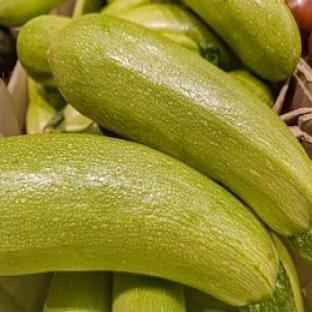Zucchini: (50, 15, 311, 235), (0, 135, 277, 305), (185, 234, 303, 311), (118, 4, 236, 69), (18, 16, 71, 87), (240, 263, 302, 311), (112, 273, 186, 311), (44, 273, 111, 311), (272, 233, 303, 311), (229, 70, 274, 107), (27, 78, 56, 134), (46, 105, 93, 133), (185, 287, 239, 311), (37, 83, 66, 110), (0, 27, 16, 71), (290, 230, 311, 261)
